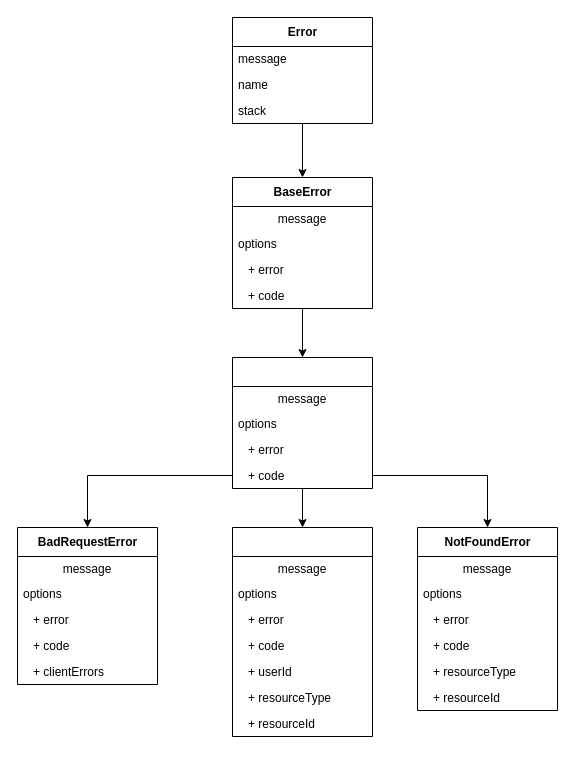
This 575x757 diagram has some shape labels left out. The box of each missing label's shape, as (x1, y1, x2, y2) in pixels:
ApplicationError: (232, 356, 372, 488)
ForbiddenError: (232, 526, 372, 736)
